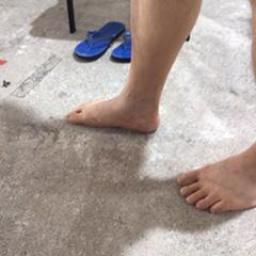Medial View -Right Foot-: (61, 71, 175, 141)
